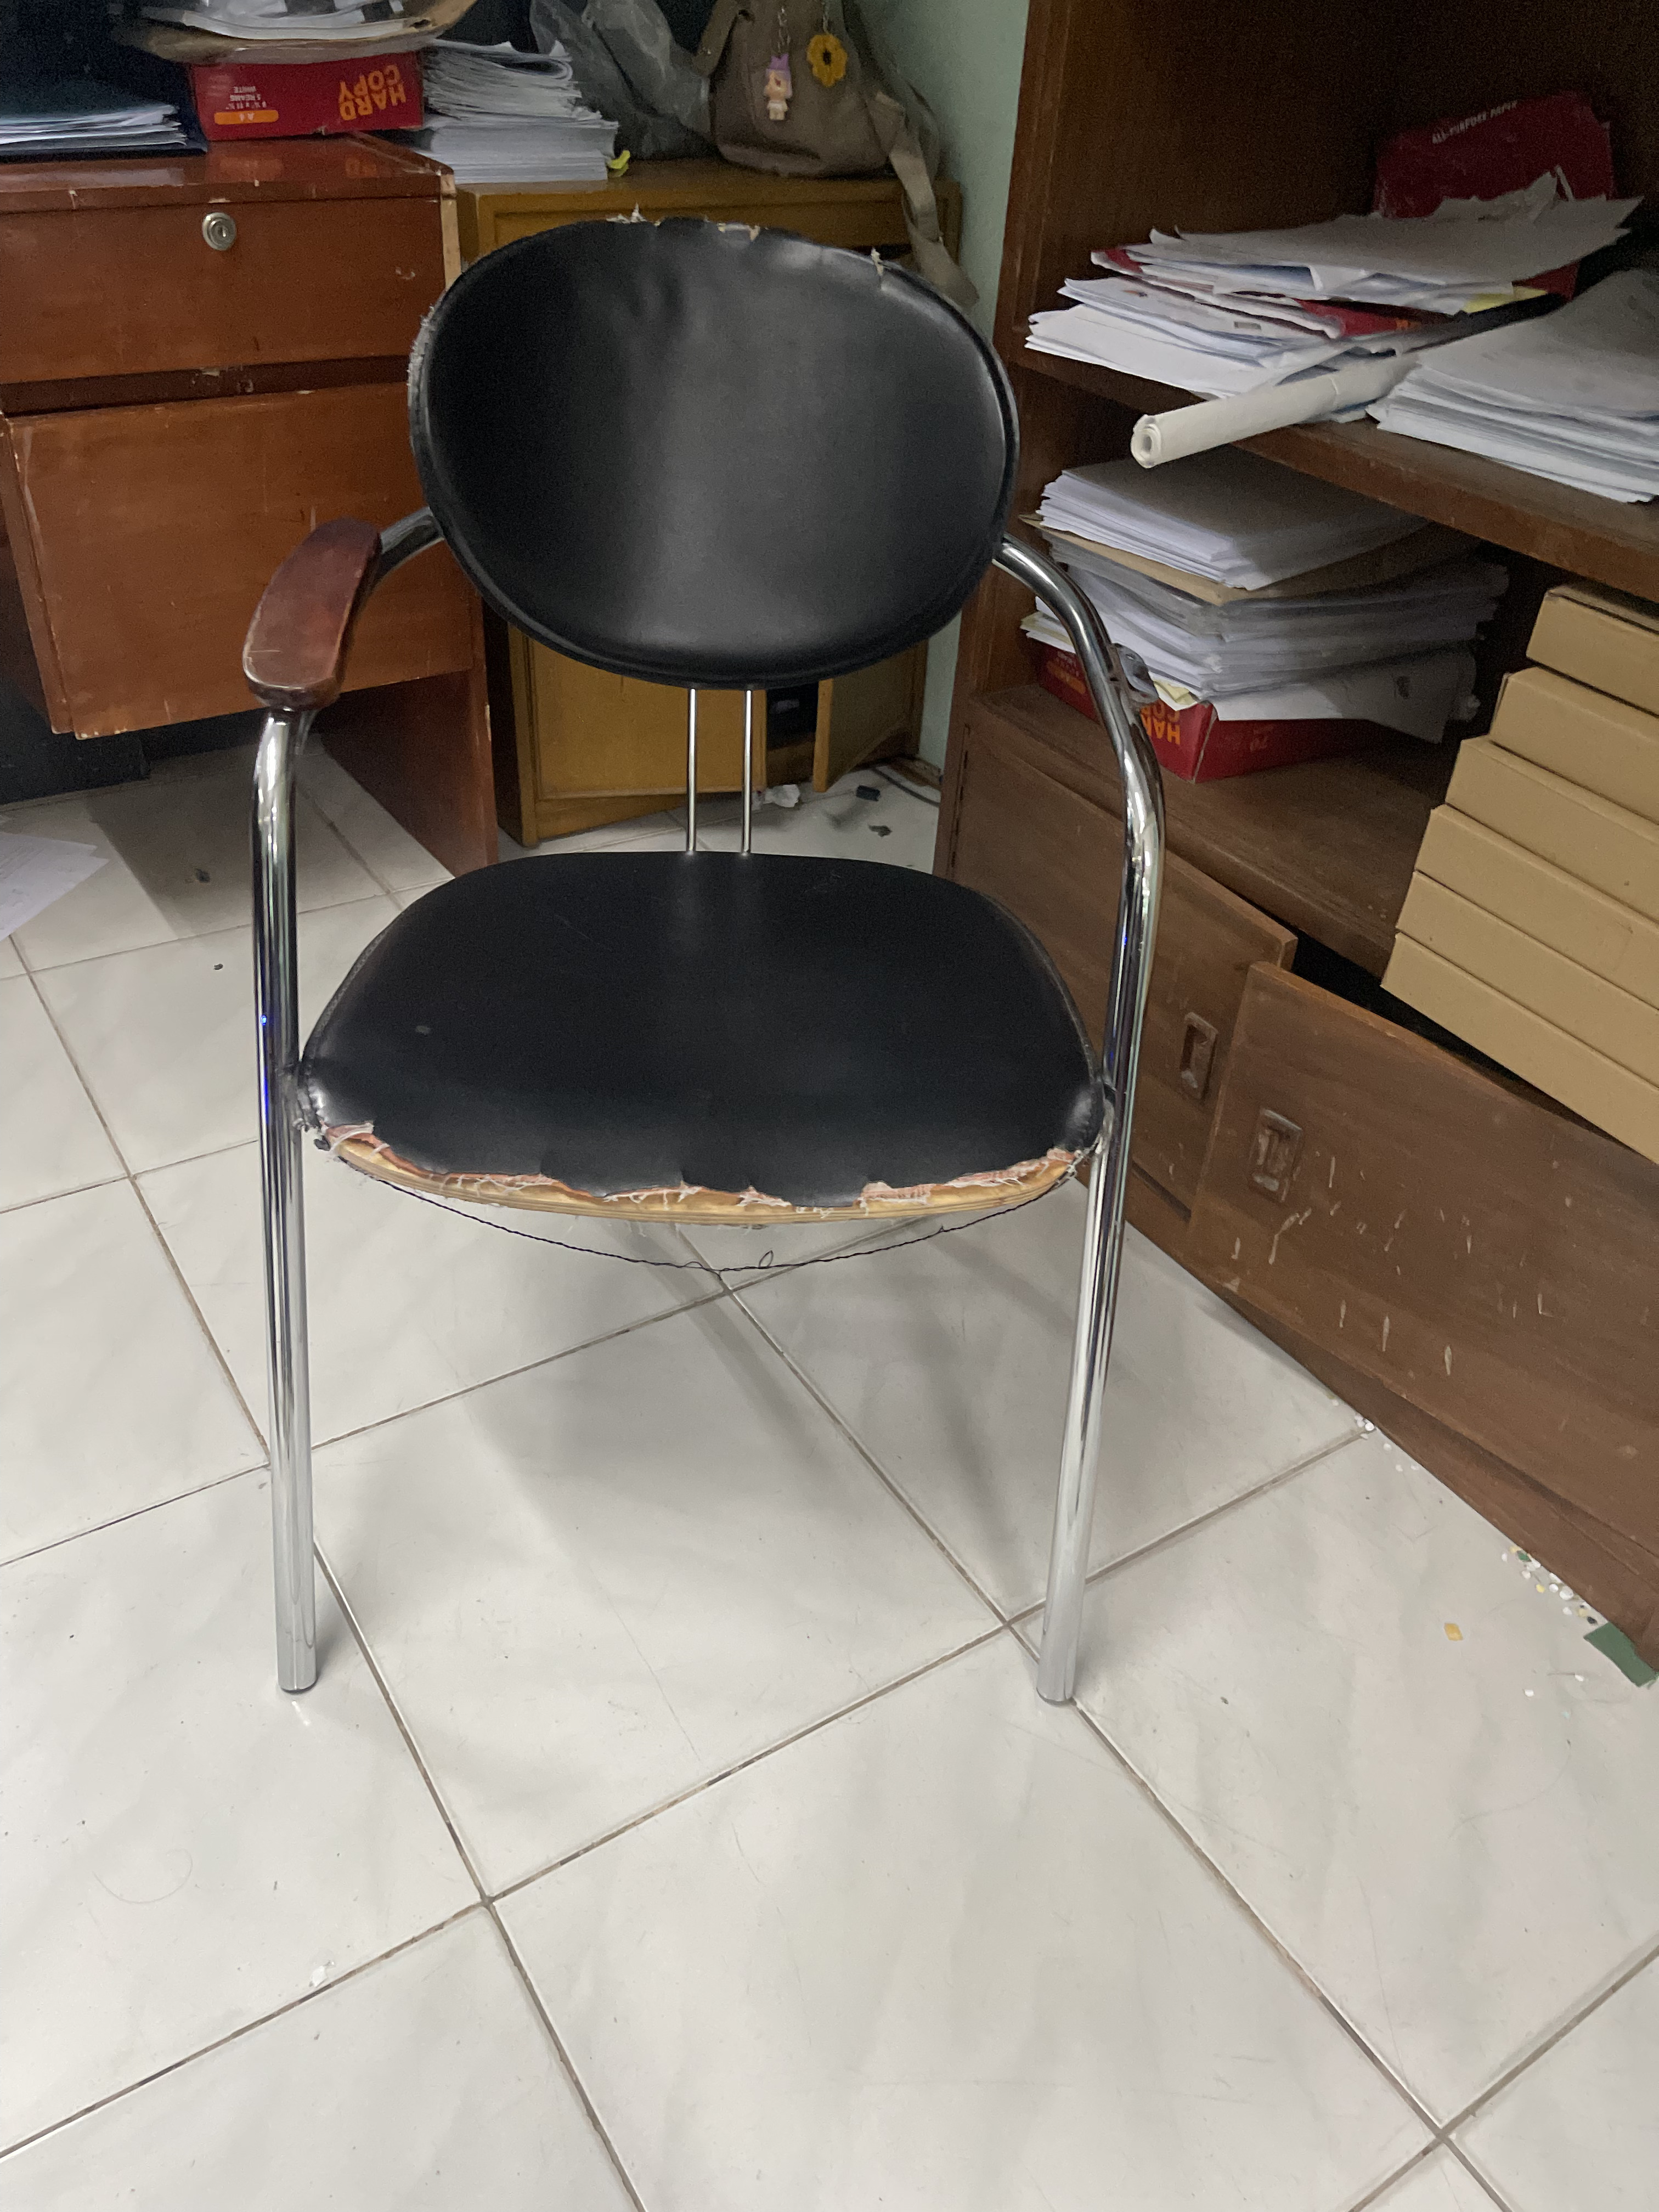chair1: (237, 209, 1180, 1731)
